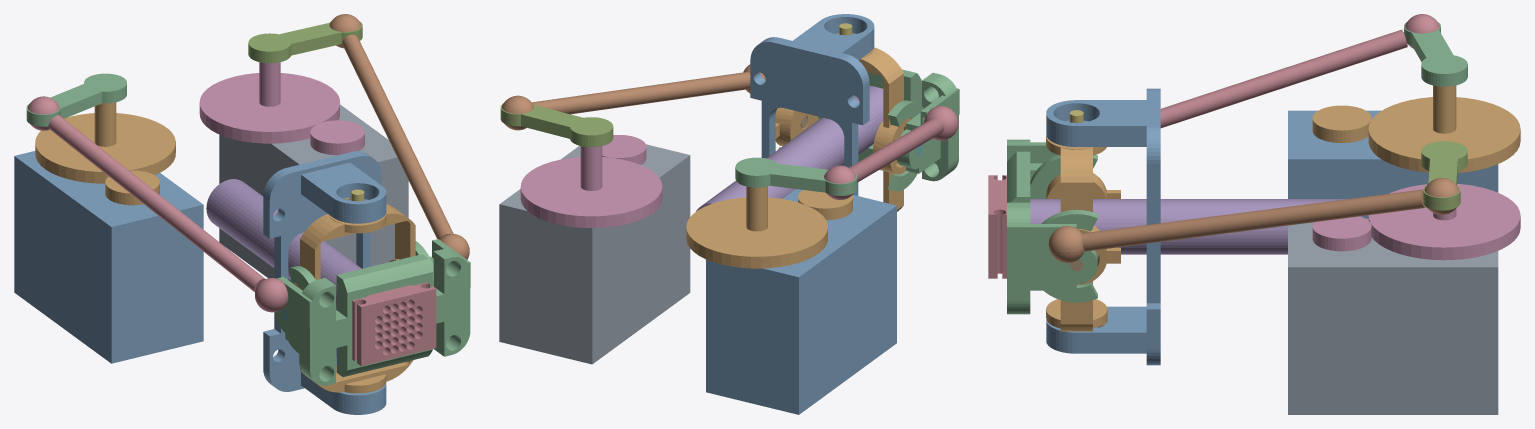
The model's file is wrist.glb.
3 views of the same model, side by side, from view 1: azimuth 30°, elevation 25°; view 2: azimuth 150°, elevation 25°; view 3: azimuth 270°, elevation 25° (orthographic). The views are drawn at different scales.
Parts seen in each view (by area): view 1: wrist_servo_L, palm_flange, wrist_base, wrist_gears_R, wrist_servo_R, wrist_gears_L, wrist_rod_L, palm_sheath_clamp, wrist_rod_R, sheath_bundle, wrist_ring, wrist_crank_R (+1 smaller); view 2: wrist_servo_L, wrist_servo_R, wrist_base, wrist_gears_L, wrist_gears_R, palm_flange, sheath_bundle, wrist_rod_R, wrist_ring, wrist_rod_L, wrist_crank_L, wrist_crank_R; view 3: wrist_servo_R, wrist_base, wrist_gears_L, palm_flange, wrist_gears_R, wrist_rod_R, wrist_servo_L, sheath_bundle, wrist_rod_L, wrist_ring, wrist_crank_L, wrist_crank_R (+1 smaller).
Boxes of the visible parts, left/top/right/bottom form: wrist_servo_L: left=14, top=151, right=203, bottom=363; palm_flange: left=275, top=239, right=470, bottom=385; wrist_base: left=263, top=151, right=386, bottom=414; wrist_gears_R: left=199, top=62, right=364, bottom=155; wrist_servo_R: left=219, top=104, right=408, bottom=283; wrist_gears_L: left=35, top=102, right=175, bottom=205; wrist_rod_L: left=26, top=96, right=288, bottom=312; palm_sheath_clamp: left=352, top=282, right=436, bottom=366; wrist_rod_R: left=329, top=14, right=469, bottom=259; sheath_bundle: left=206, top=179, right=361, bottom=310; wrist_ring: left=294, top=197, right=415, bottom=393; wrist_crank_R: left=248, top=21, right=362, bottom=63; wrist_servo_L: left=706, top=189, right=896, bottom=414; wrist_servo_R: left=499, top=144, right=690, bottom=364; wrist_base: left=750, top=14, right=874, bottom=195; wrist_gears_L: left=686, top=186, right=852, bottom=268; wrist_gears_R: left=520, top=135, right=662, bottom=227; palm_flange: left=779, top=69, right=959, bottom=191; sheath_bundle: left=696, top=86, right=883, bottom=211; wrist_rod_R: left=500, top=64, right=765, bottom=130; wrist_ring: left=775, top=47, right=911, bottom=211; wrist_rod_L: left=824, top=106, right=958, bottom=199; wrist_crank_L: left=735, top=157, right=857, bottom=195; wrist_crank_R: left=500, top=103, right=613, bottom=147; wrist_servo_R: left=1288, top=218, right=1498, bottom=414; wrist_base: left=1046, top=88, right=1160, bottom=365; wrist_gears_L: left=1312, top=85, right=1520, bottom=172; palm_flange: left=1007, top=139, right=1097, bottom=314; wrist_gears_R: left=1312, top=184, right=1520, bottom=260; wrist_rod_R: left=1048, top=178, right=1459, bottom=262; wrist_servo_L: left=1288, top=110, right=1498, bottom=218; sheath_bundle: left=1030, top=199, right=1347, bottom=254; wrist_rod_L: left=1160, top=14, right=1440, bottom=128; wrist_ring: left=1046, top=136, right=1120, bottom=331; wrist_crank_L: left=1404, top=22, right=1467, bottom=86; wrist_crank_R: left=1421, top=141, right=1467, bottom=210.
Size of the model in its own units: 91.31 by 58.78 by 114.
